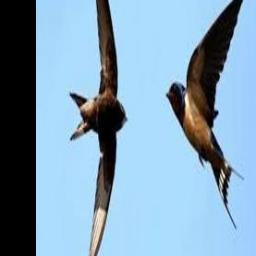Swallow: (165, 0, 244, 227), (69, 0, 128, 256)
